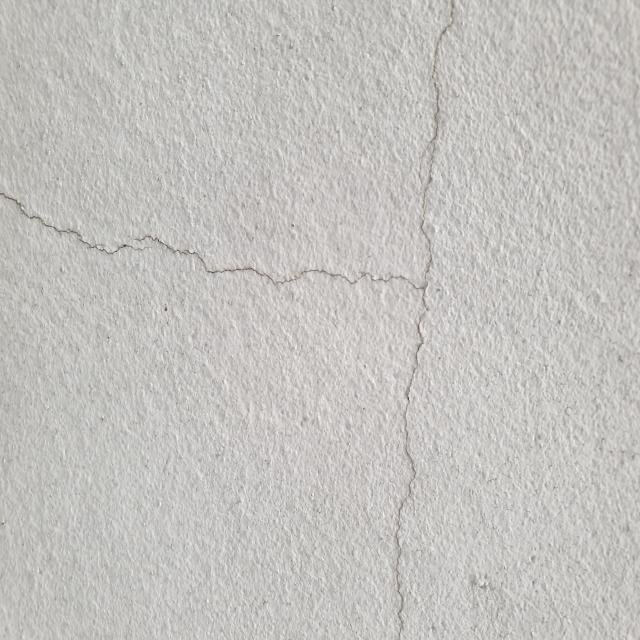SurfaceCrack: (342, 1, 492, 639)
